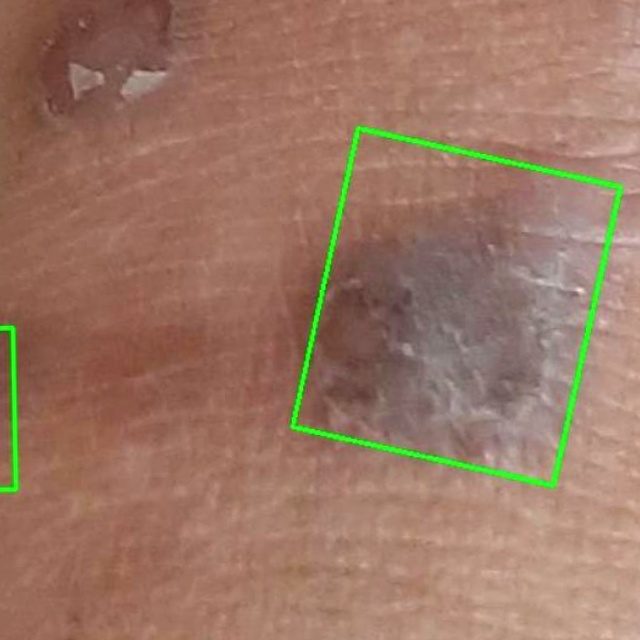Contact Dermatitis: (291, 127, 619, 485)
